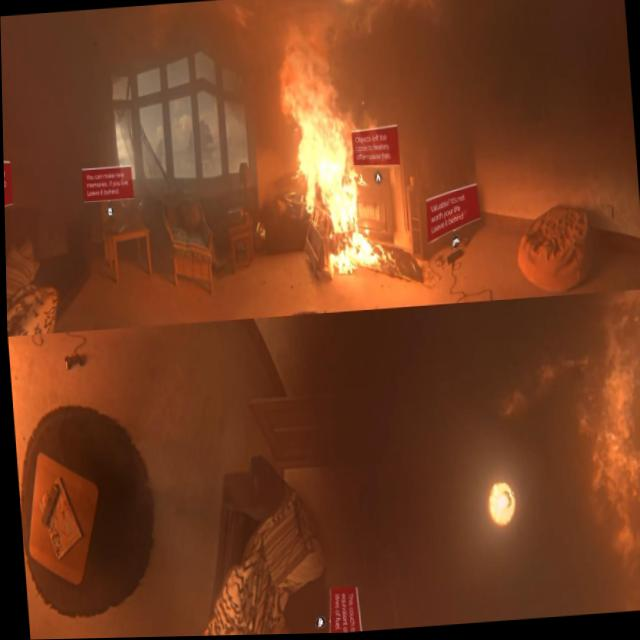fire: (281, 81, 398, 280)
